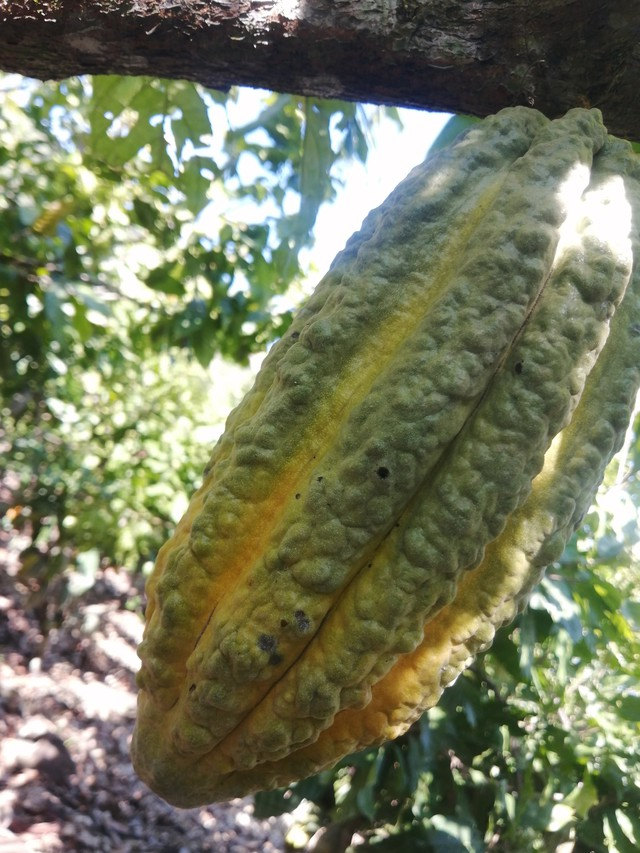Health: (107, 86, 640, 821)
